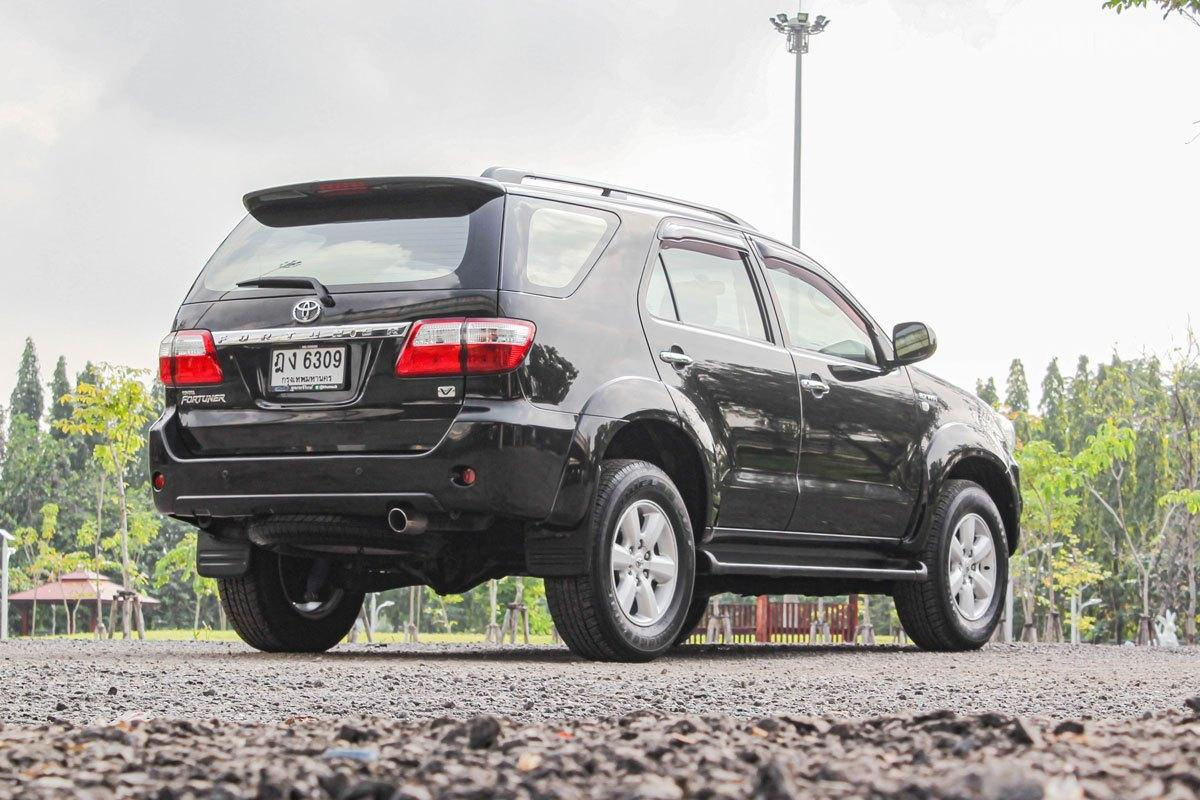license-plate: (266, 343, 349, 393)
